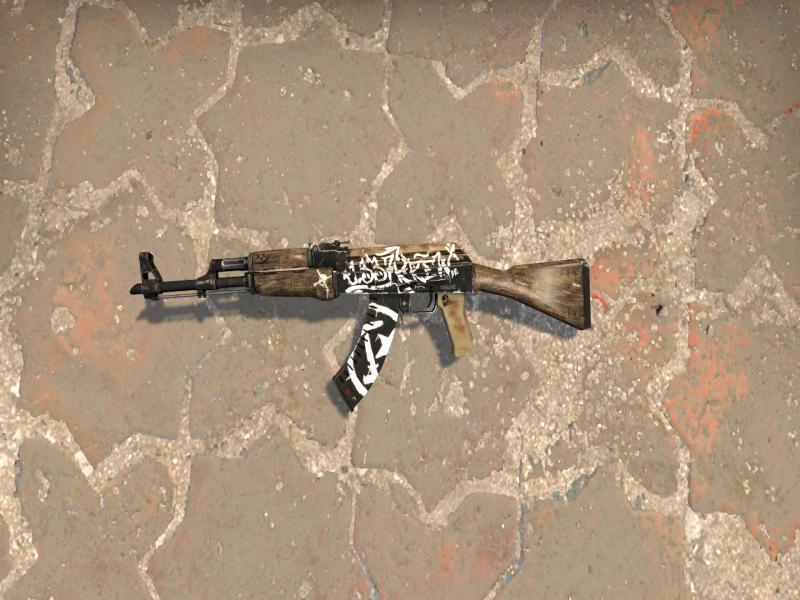AK47: (130, 241, 591, 409)
